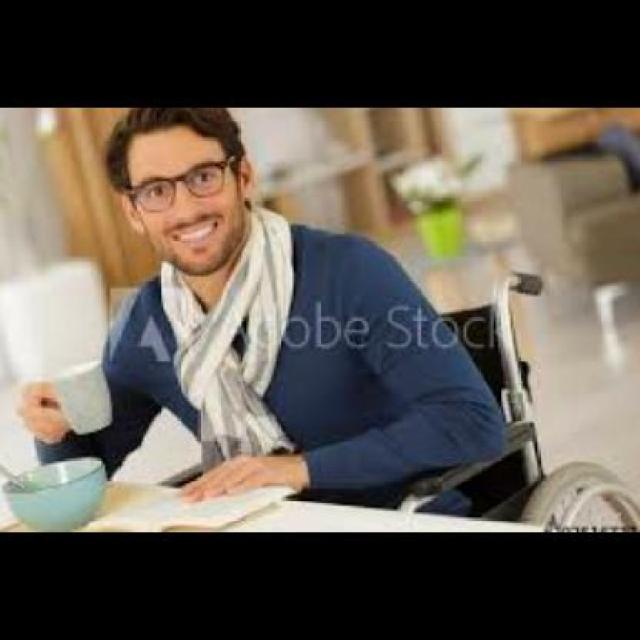wheelchairs: (166, 280, 636, 533)
